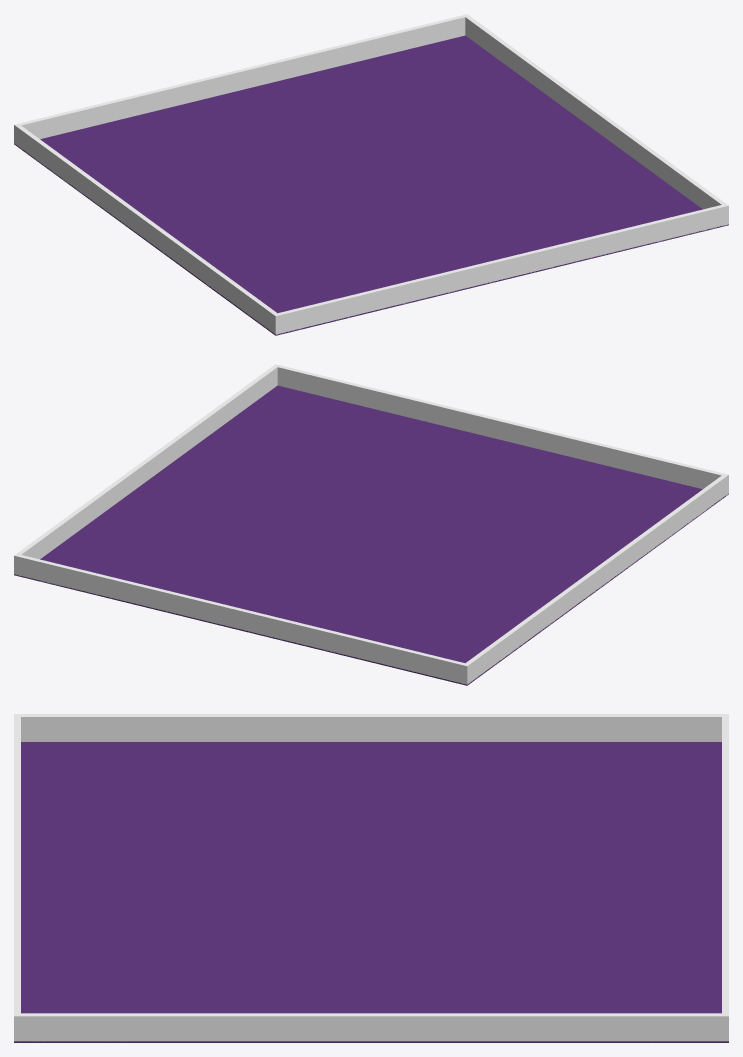
Rendered from square2.glb.
The picture shows the model from 3 angles, top to bottom: view 1: azimuth 30°, elevation 25°; view 2: azimuth 150°, elevation 25°; view 3: azimuth 270°, elevation 25°; orthographic projection. The views are drawn at different scales.
Visible parts, largest first — view 1: Box, Box_2, Box_3, Box_4, Box_1; view 2: Box, Box_3, Box_2, Box_4, Box_1; view 3: Box, Box_1, Box_4, Box_2, Box_3.
Boxes of the visible parts, <box> form: Box: <box>14,35,728,335</box>; Box_2: <box>273,204,728,334</box>; Box_3: <box>14,14,468,144</box>; Box_4: <box>14,124,280,334</box>; Box_1: <box>463,14,728,225</box>; Box: <box>14,385,728,685</box>; Box_3: <box>14,554,469,684</box>; Box_2: <box>274,364,728,495</box>; Box_4: <box>462,474,727,684</box>; Box_1: <box>14,364,279,574</box>; Box: <box>14,742,728,1042</box>; Box_1: <box>14,1013,728,1041</box>; Box_4: <box>16,714,723,741</box>; Box_2: <box>14,714,20,1041</box>; Box_3: <box>722,714,728,1041</box>.
Size of the model in its own units: 10 by 0.413 by 10.
